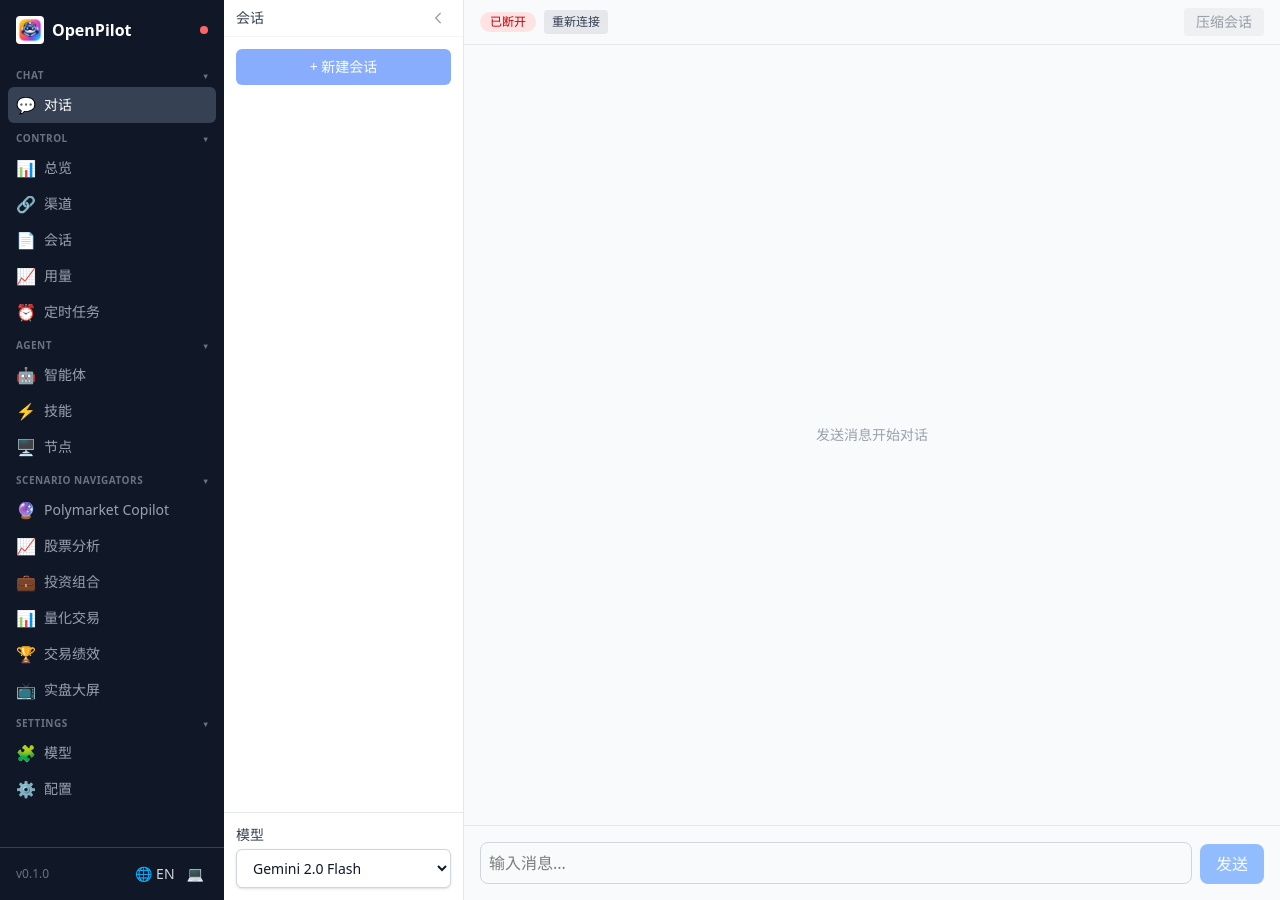
Scenario: AppLayout › renders stub views for unimplemented tabs
The width and height of the screenshot is (1280, 900).
Click the text "渠道": (58, 204) [44,194,72,214]
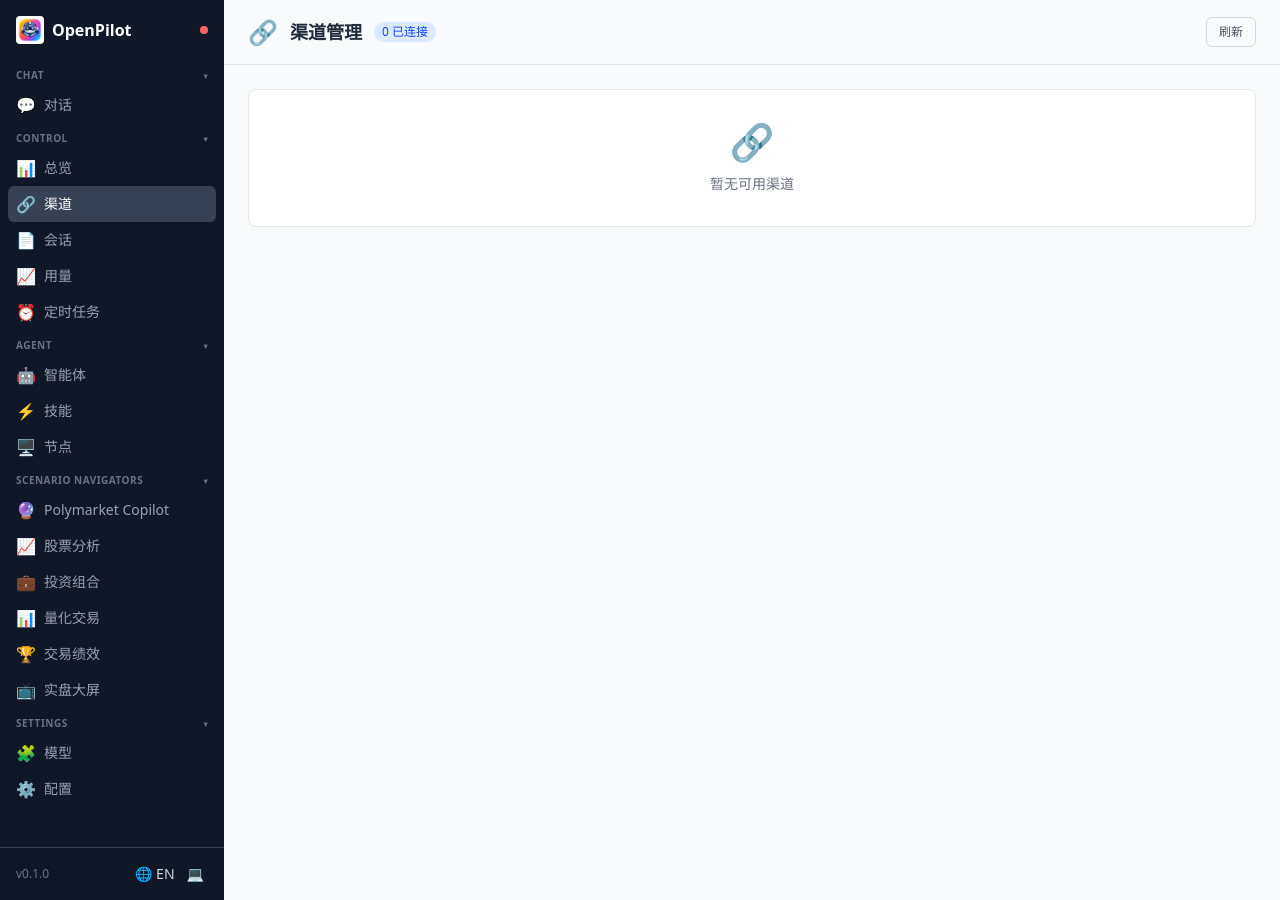
Now the heading "渠道管理" is shown, box [290,18,362,46]
